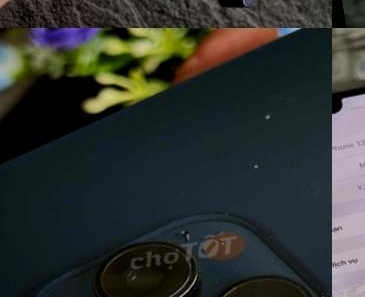scratch: (320, 28, 332, 60), (256, 108, 277, 124), (247, 161, 265, 172)
